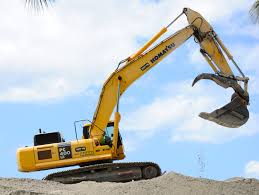excavator: (14, 6, 253, 186)
